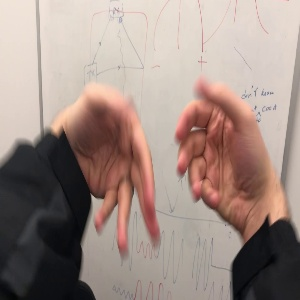hand: (63, 81, 160, 257), (176, 79, 280, 220)
